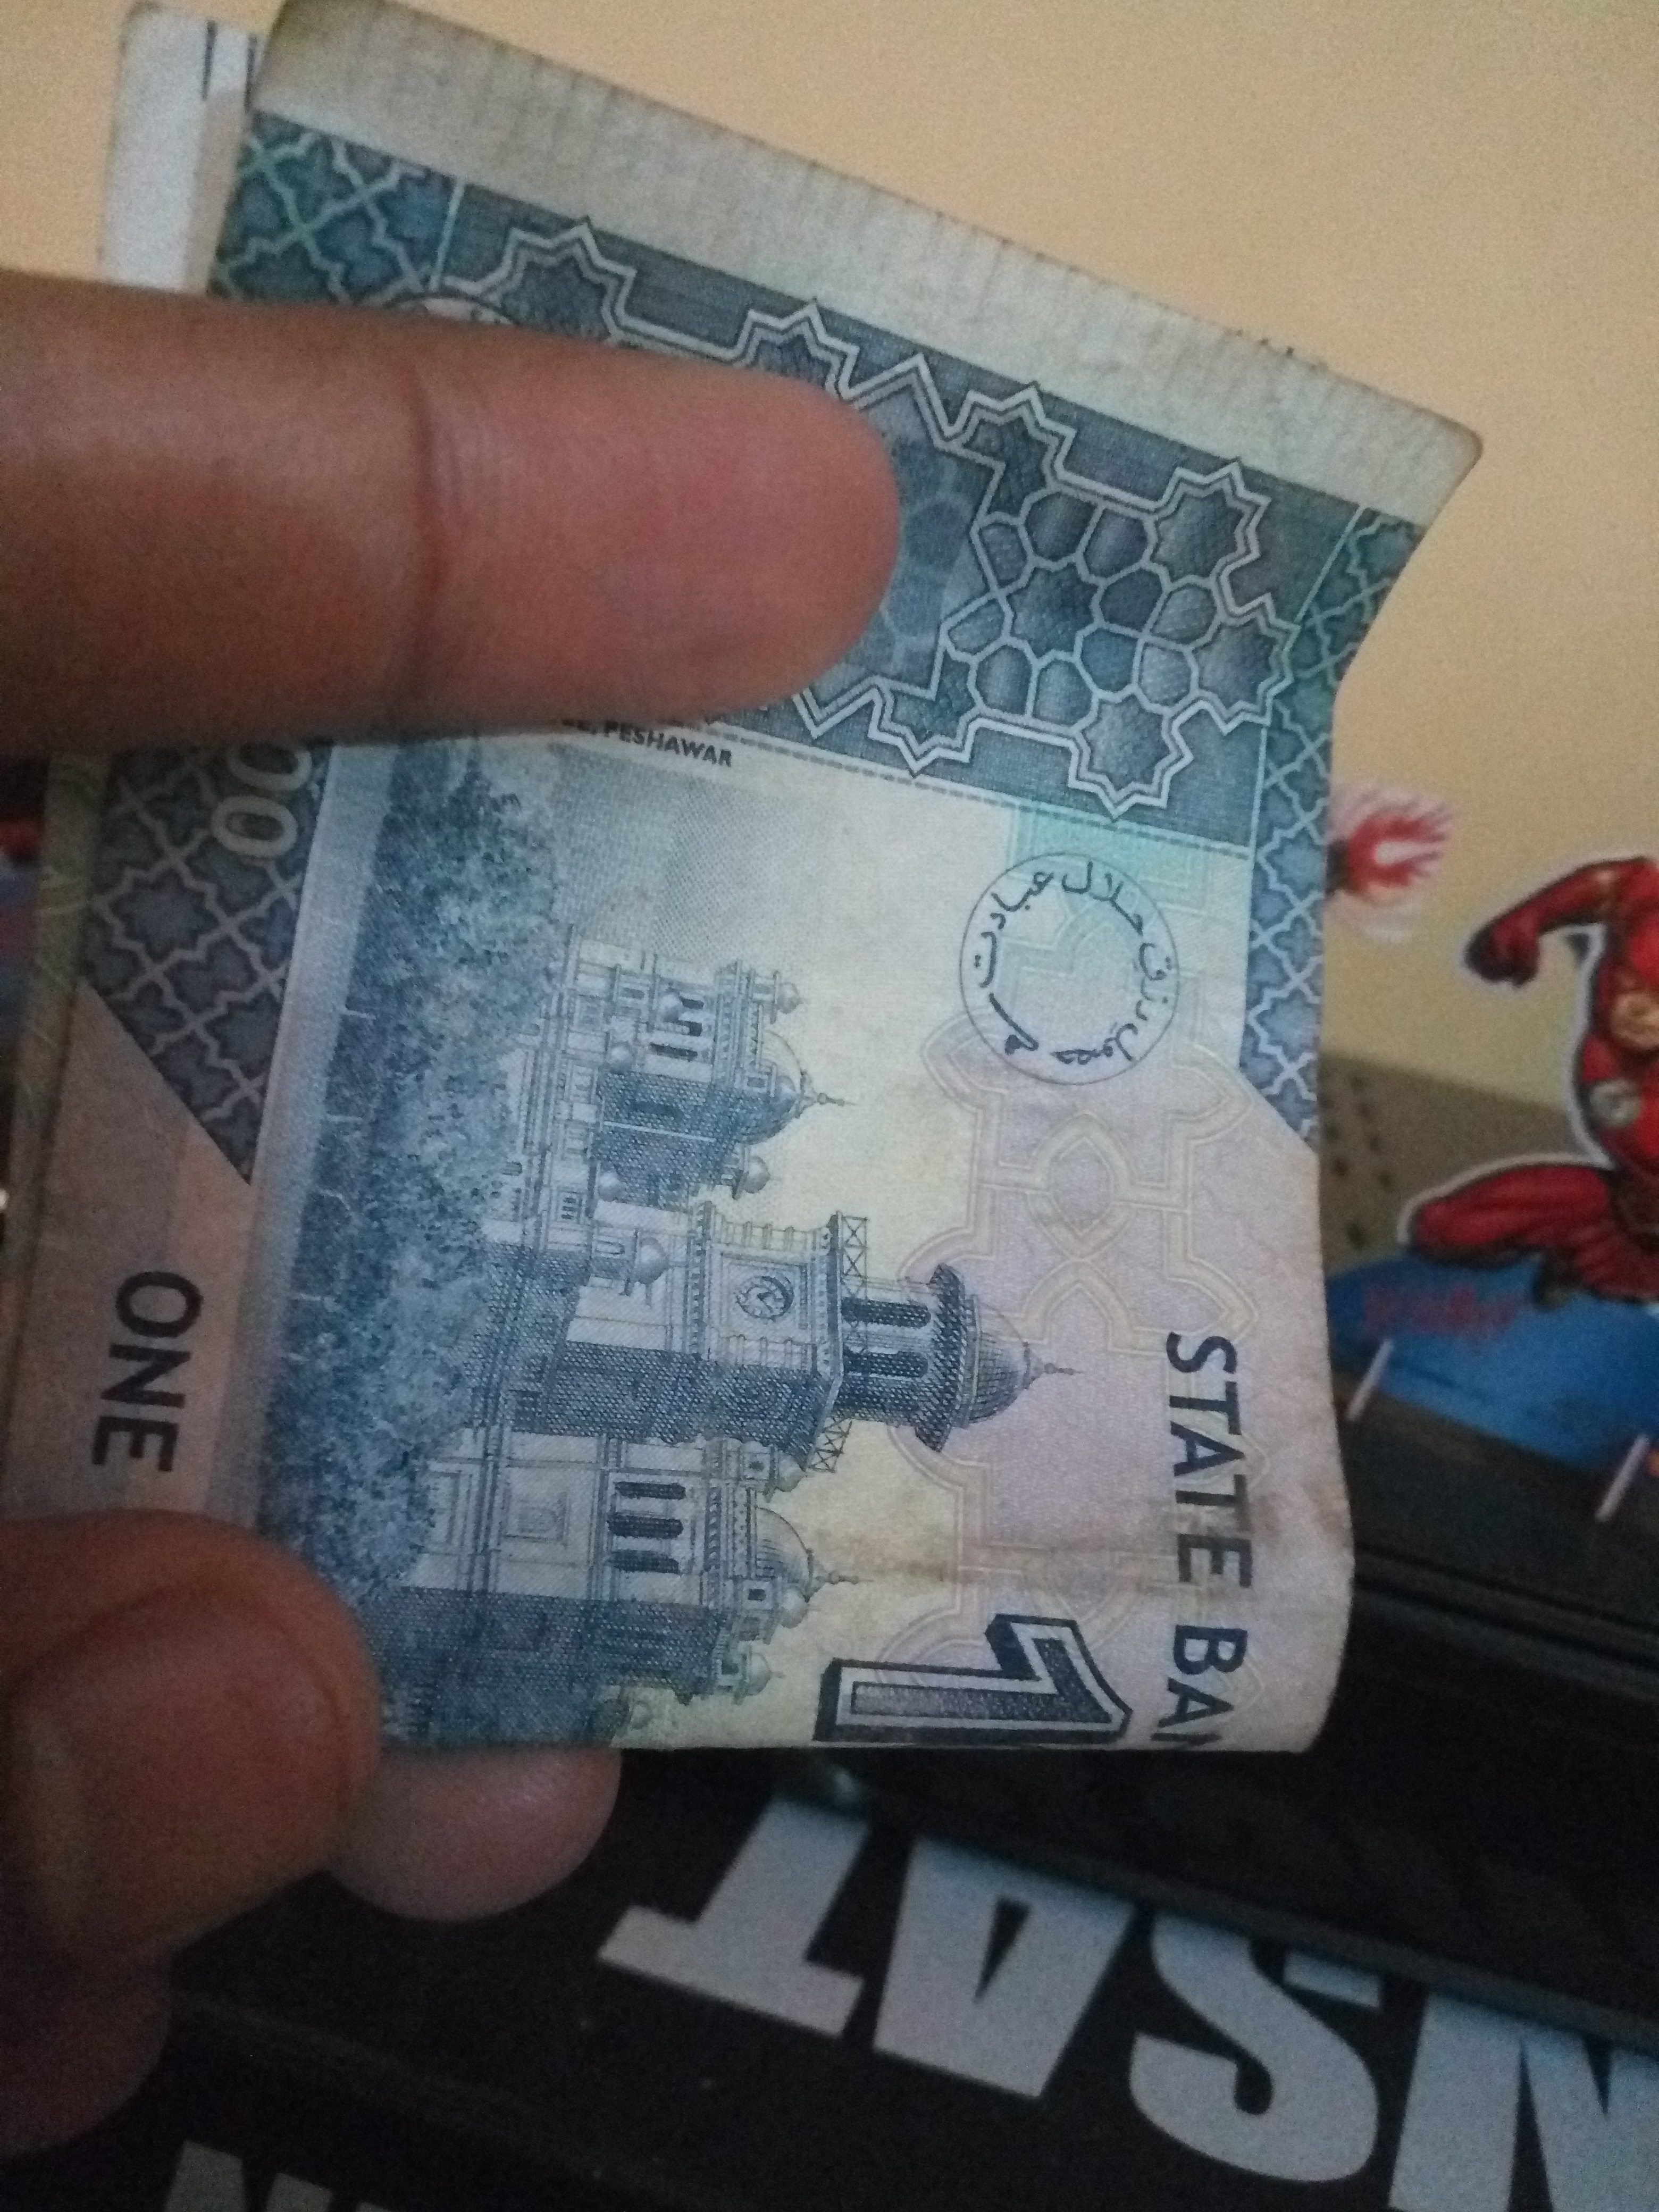1000 rupee: (38, 33, 1436, 1822)
